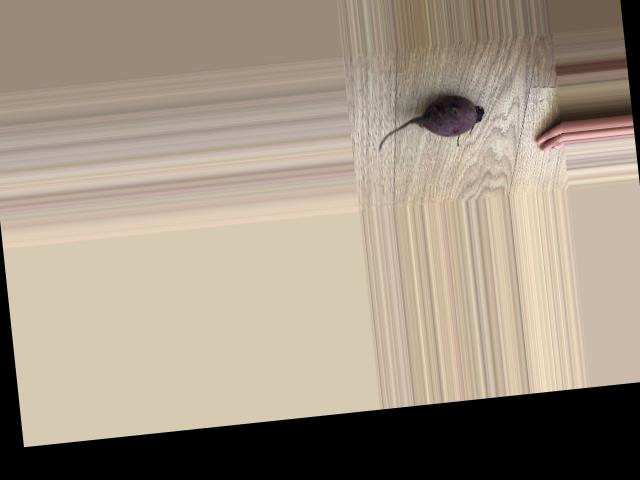beet: (373, 93, 486, 154)
